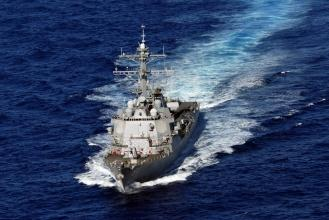warship: (97, 19, 200, 184)
